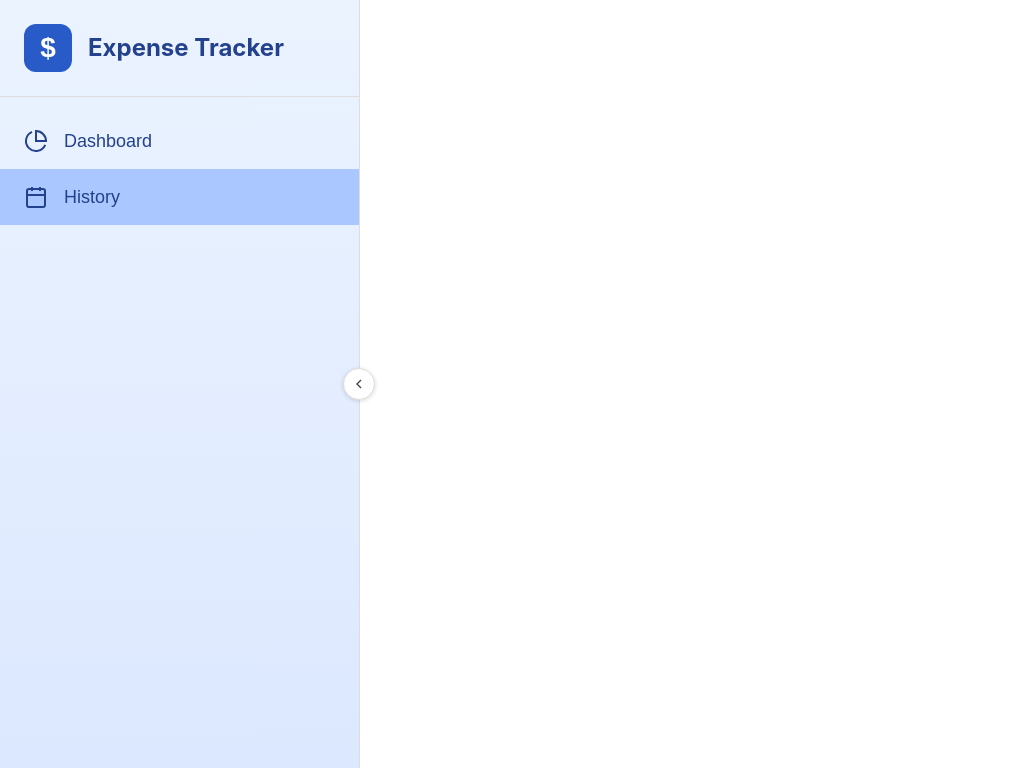
it: Sidebar › clicking the $ logo opens the hidden theme picker
The width and height of the screenshot is (1024, 768).
Check: the text "Choose a theme" is not shown
Click the button named "Open theme picker" at (48, 48), box x1=24 y1=24 x2=72 y2=72
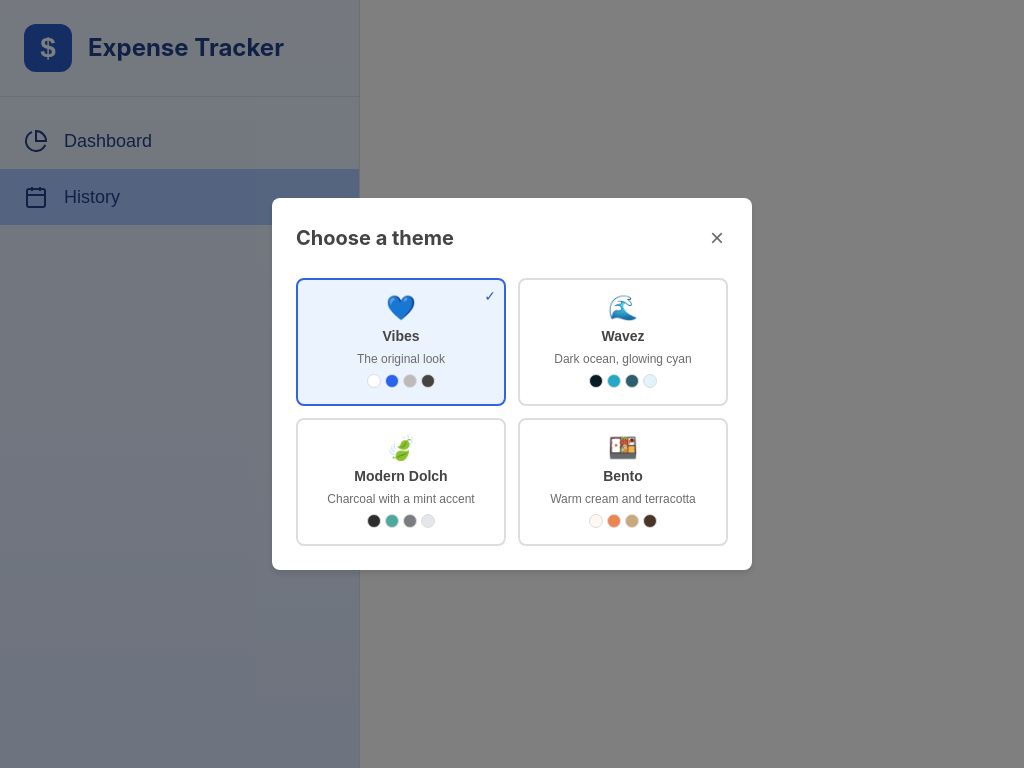
Check: the heading "Choose a theme" is shown, box x1=296 y1=223 x2=454 y2=253
